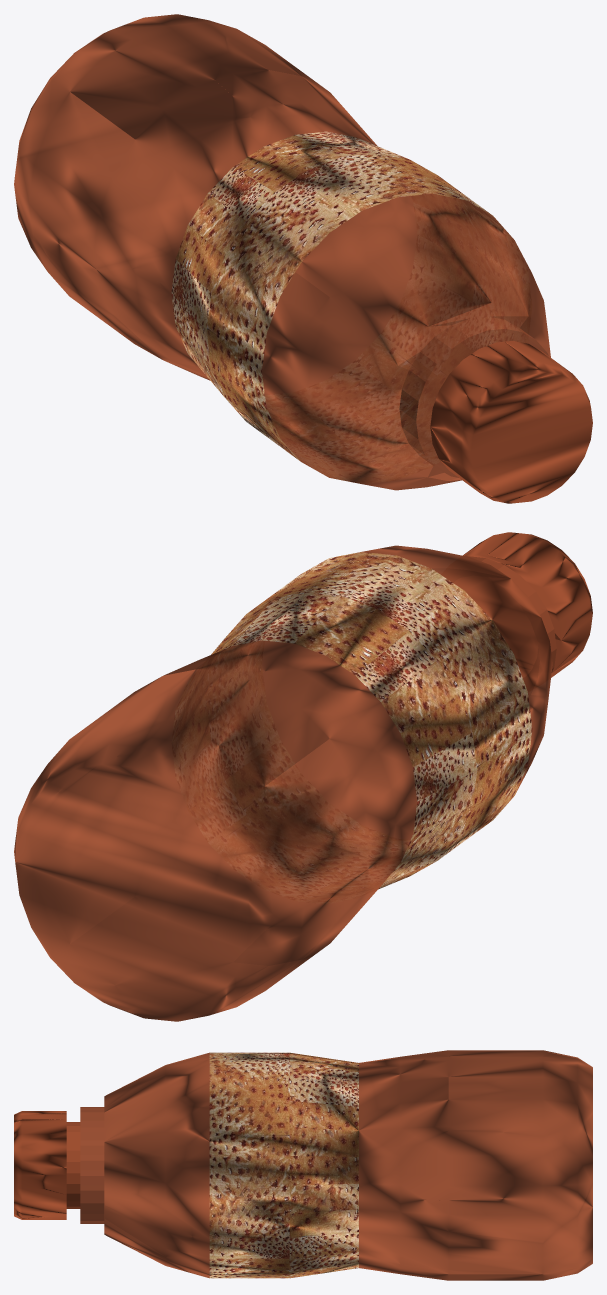
The model's file is model_align.obj.
The picture shows the model from 3 angles, top to bottom: view 1: azimuth 30°, elevation 25°; view 2: azimuth 150°, elevation 25°; view 3: azimuth 270°, elevation 25°; orthographic projection. The views are drawn at different scales.
Bounding box in the file's own units: 0.0577 × 0.0577 × 0.1444.
